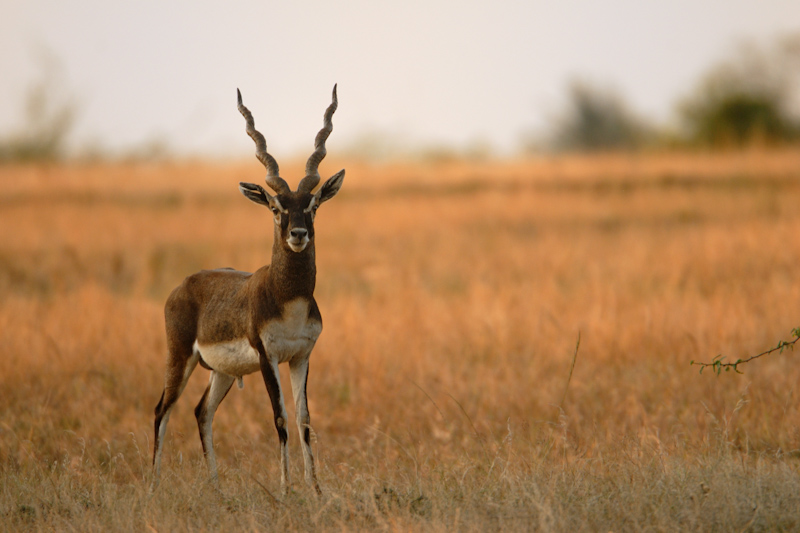Blackbuck: (154, 83, 346, 498)
